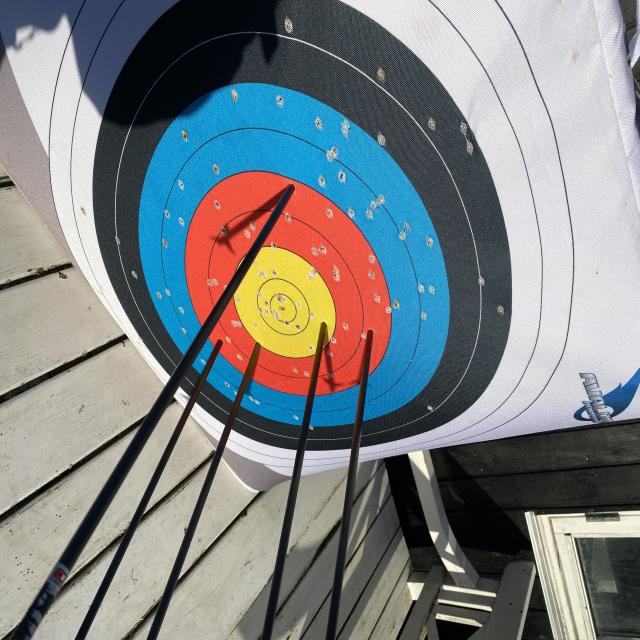Arrow_Red: (266, 172, 312, 210), (359, 315, 385, 361), (242, 338, 274, 372), (203, 326, 234, 358)
Arrow_Yellow: (309, 314, 343, 347)
